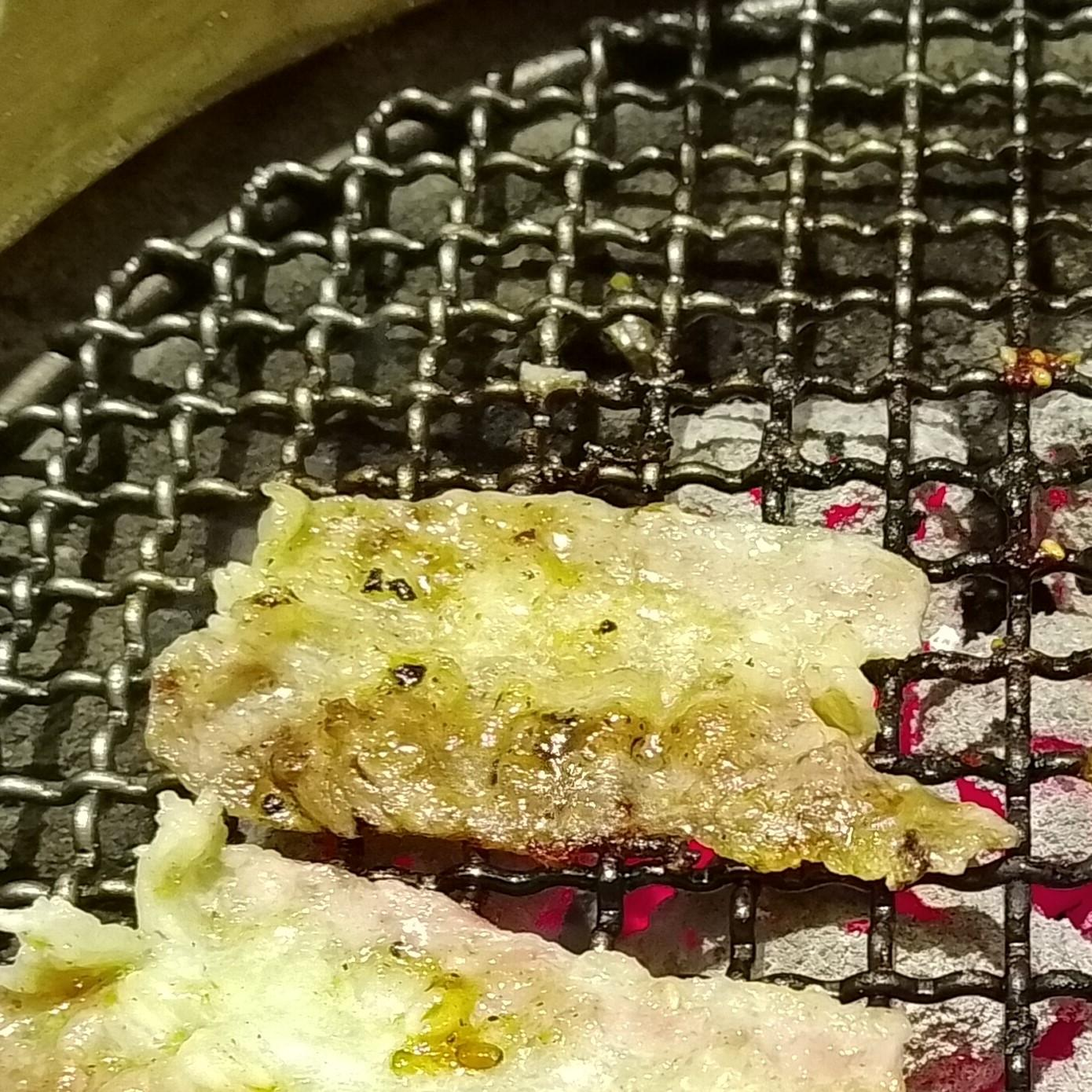Well-Cooked: (145, 486, 1018, 889), (0, 792, 911, 1091)
